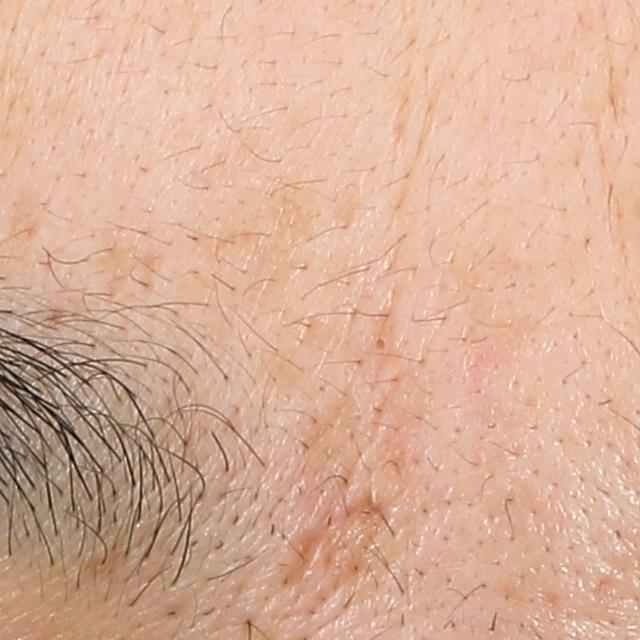atrophic_scar: (341, 492, 400, 554), (279, 526, 326, 589)
comedo: (370, 332, 389, 354)
